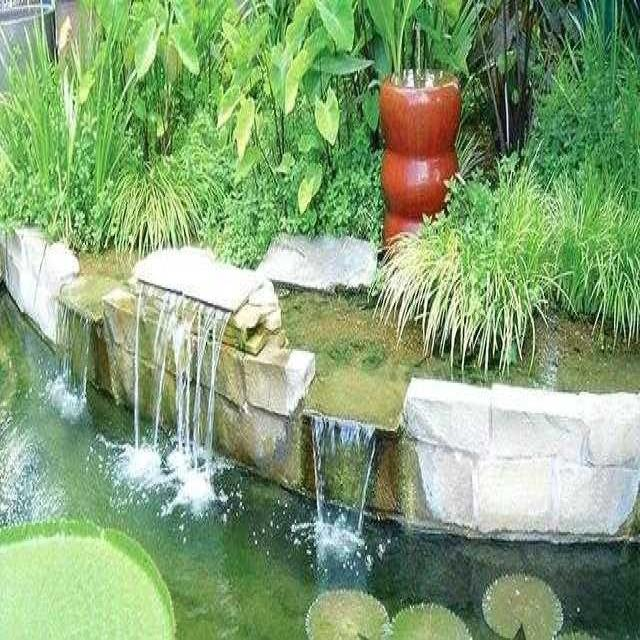Ponds: (1, 223, 640, 635)
